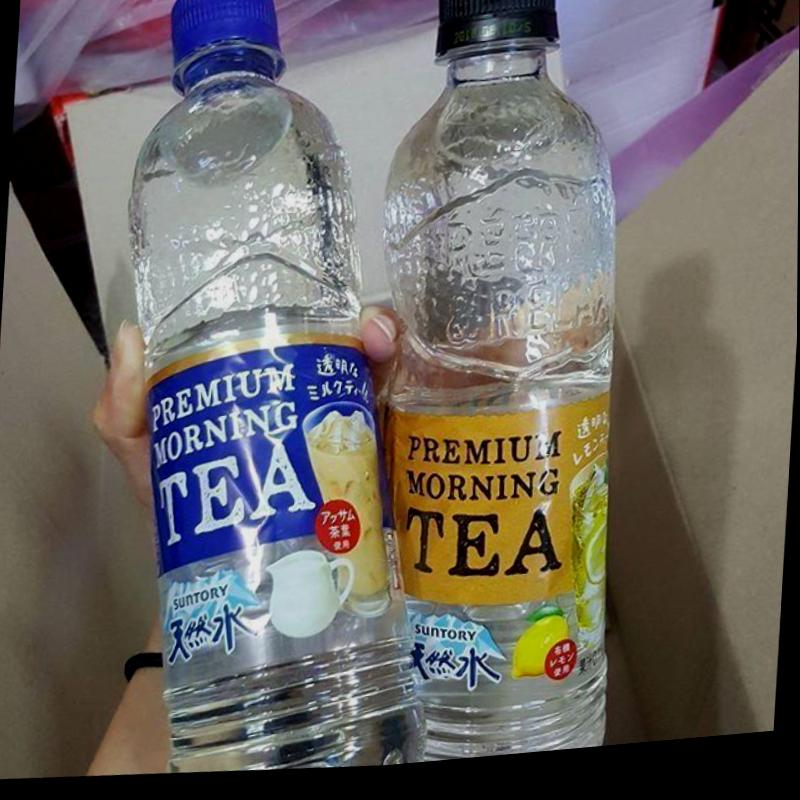botella: (96, 0, 468, 793), (352, 0, 649, 775)
